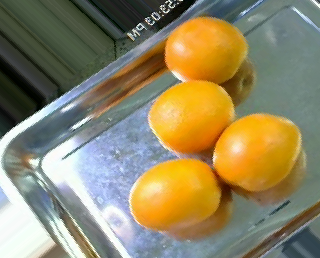Orange: (213, 111, 302, 191), (128, 156, 219, 232), (147, 78, 234, 154), (163, 15, 249, 83)
